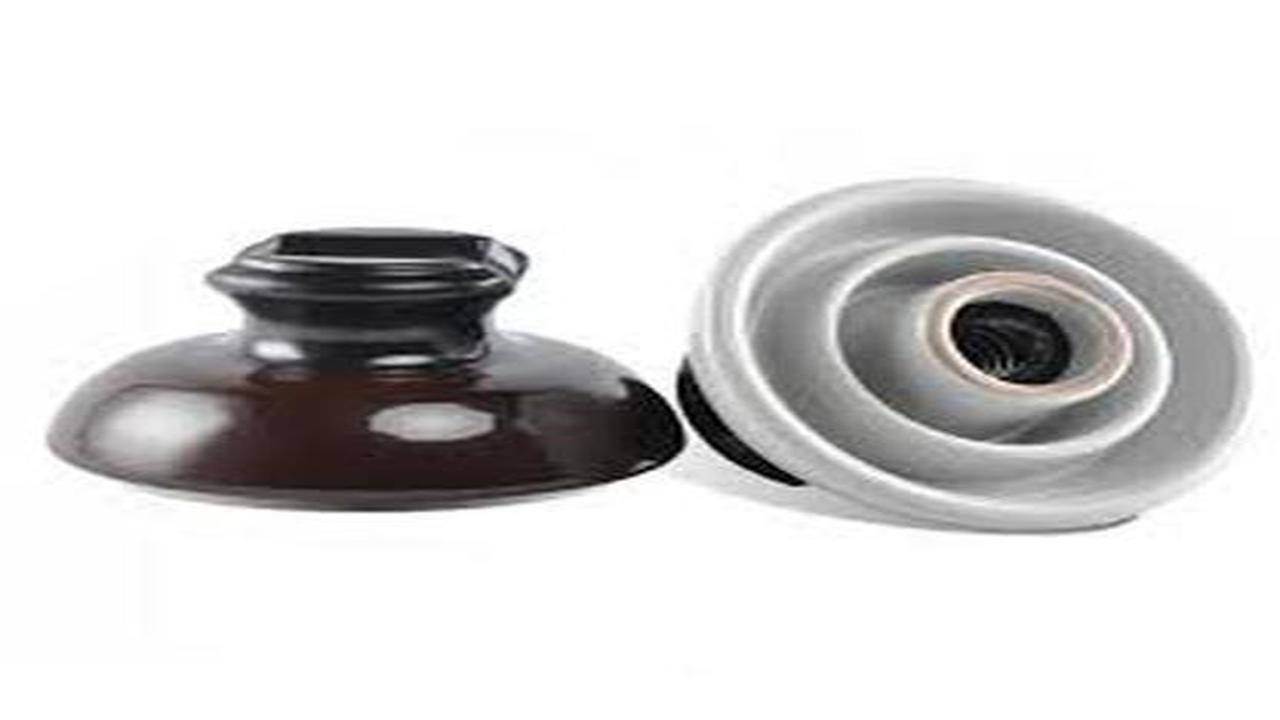insulator_pin: (59, 210, 690, 534)
